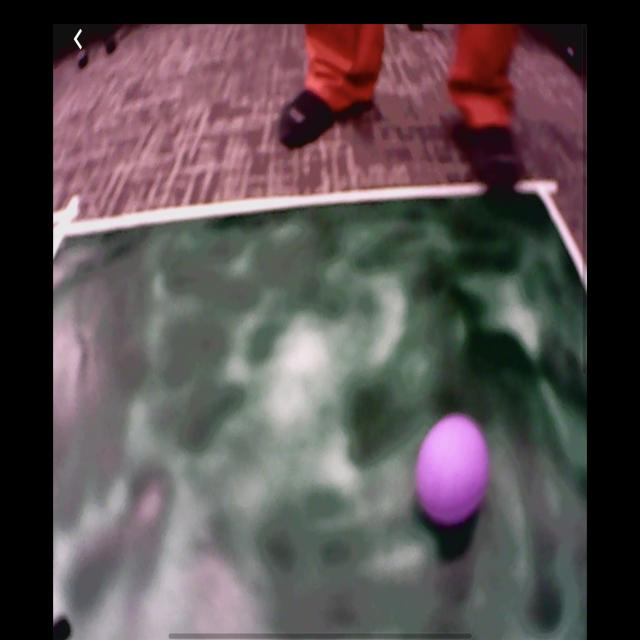ball: (417, 415, 492, 528)
